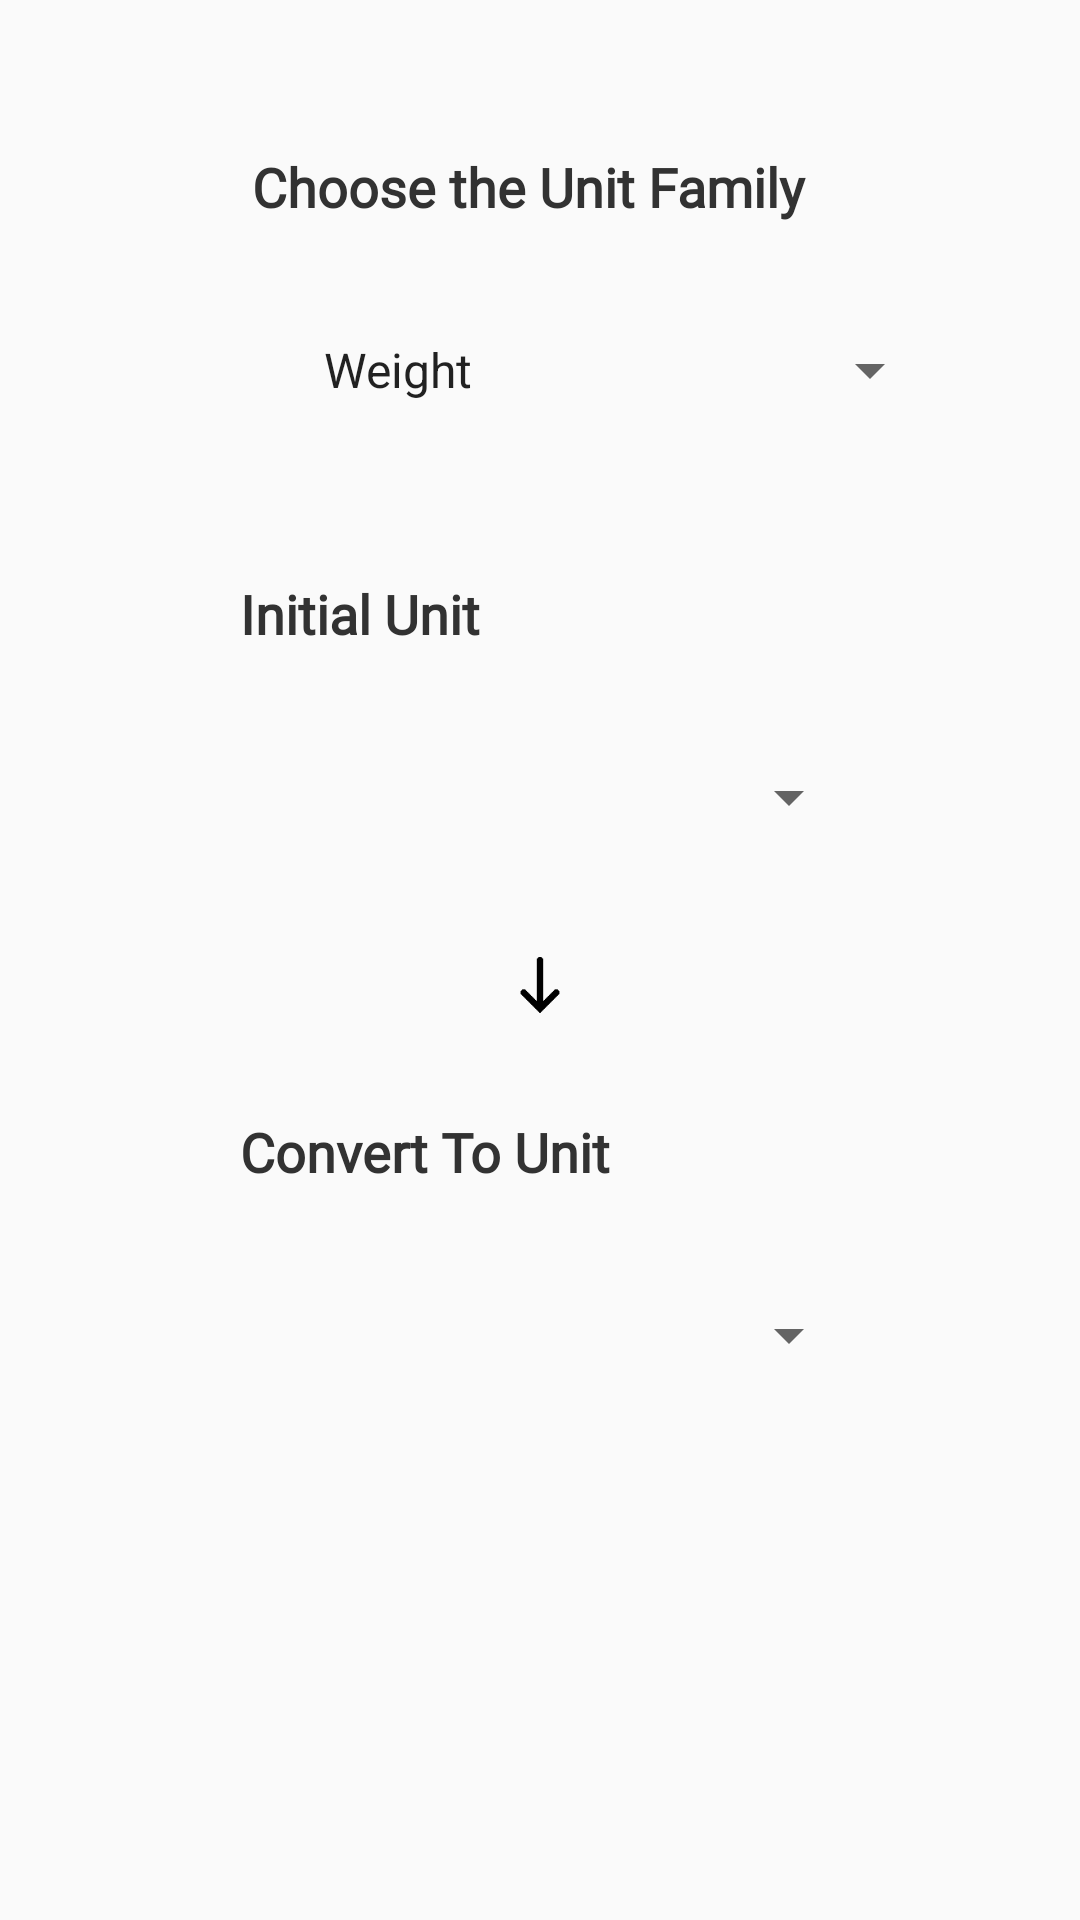

Named icons in this screenshot (1080w x 1920h) and their centers, (x,y):
arrow down: (540,985)
